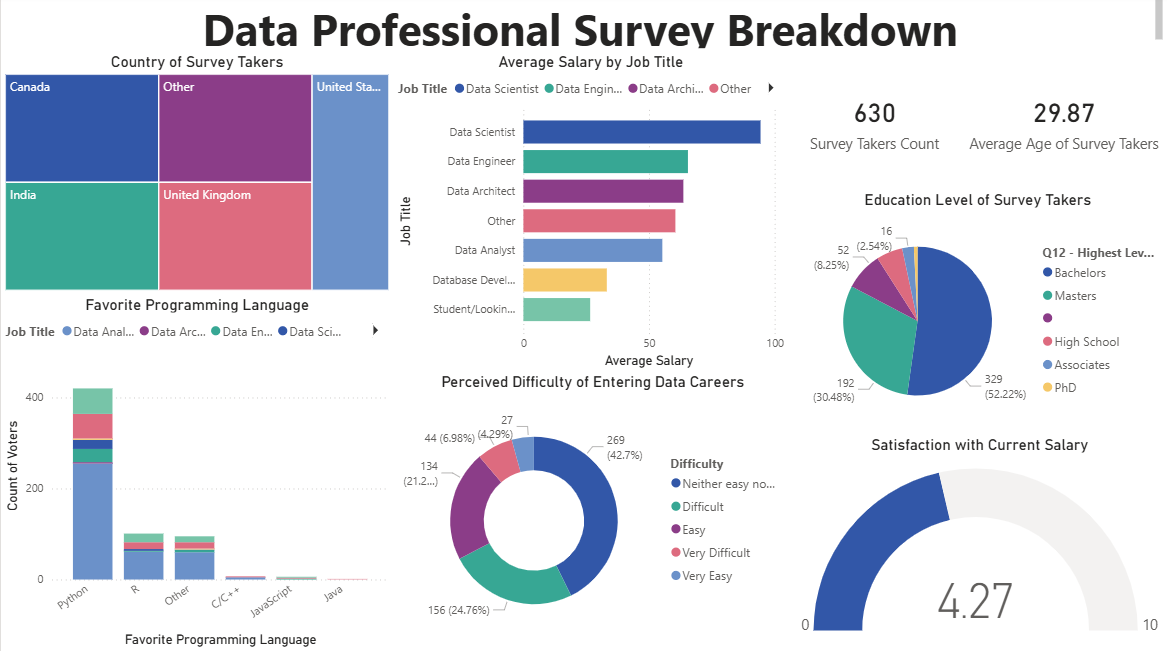

The dashboard page shown, as its layout file describes it:
{"tool":"powerbi","page":{"name":"Page 1","canvas":[1280,720],"ordinal":0},"visuals":[{"type":"textbox","box":[0,0,1280.3,63.1],"z":0},{"type":"card","fields":{"Values":["Count(Data Professional Survey.Unique ID)"]},"box":[864.5,63.1,189.4,150.9],"z":1},{"type":"card","fields":{"Values":["Avg(Data Professional Survey.Q10 - Current Age)"]},"box":[1053.9,63.1,226.4,150.9],"z":2},{"type":"barChart","title":"Average Salary by Job Title","fields":{"Category":["Data Professional Survey.Q1 - Which Title Best Fits your Current Role?.1"],"Y":["Avg(Data Professional Survey.Average Salary)"],"Series":["Data Professional Survey.Q1 - Which Title Best Fits your Current Role?.1"]},"box":[430.9,63.1,433.6,351.3],"z":3},{"type":"columnChart","title":"Favorite Programming Language","fields":{"Category":["Data Professional Survey.Q5 - Favorite Programming Language.1"],"Y":["CountNonNull(Data Professional Survey.Unique ID)"],"Series":["Data Professional Survey.Q1 - Which Title Best Fits your Current Role?.1"]},"box":[0,329.3,430.9,391.1],"z":4},{"type":"treemap","title":"Country of Survey Takers","fields":{"Group":["Data Professional Survey.Q11 - Which Country do you live in?.1"],"Values":["Count(Data Professional Survey.Q11 - Which Country do you live in?.1)"]},"box":[0,63.1,430.9,266.2],"z":5},{"type":"gauge","title":"Satisfaction with Current Salary","fields":{"Y":["Avg(Data Professional Survey.Q6 - How Happy are you in your Current Position with the following? (Salary))"],"MinValue":["Min(Data Professional Survey.Q6 - How Happy are you in your Current Position with the following? (Salary))"],"MaxValue":["Max(Data Professional Survey.Q6 - How Happy are you in your Current Position with the following? (Salary))"]},"box":[868.6,483,411.7,237.4],"z":7},{"type":"donutChart","title":"Perceived Difficulty of Entering Data Careers","fields":{"Category":["Data Professional Survey.Q7 - How difficult was it for you to break into Data?"],"Y":["CountNonNull(Data Professional Survey.Q7 - How difficult was it for you to break into Data?)"]},"box":[430.9,414.4,437.7,306],"z":8},{"type":"pieChart","title":"Education Level of Survey Takers","fields":{"Category":["Data Professional Survey.Q12 - Highest Level of Education"],"Y":["CountNonNull(Data Professional Survey.Q12 - Highest Level of Education)"]},"box":[864.5,214.1,415.8,269],"z":9}]}

Visuals, with their boxes in screenshot pixels (x1, y1, x2, y2), scaled from the page's 1280x720 canvas onto the 1167x651 screenshot:
textbox: {"x1": 0, "y1": 0, "x2": 1166, "y2": 57}
card - Count(Data Professional Survey.Unique ID): {"x1": 788, "y1": 57, "x2": 961, "y2": 193}
card - Avg(Data Professional Survey.Q10 - Current Age): {"x1": 961, "y1": 57, "x2": 1166, "y2": 193}
"Average Salary by Job Title" barChart: {"x1": 393, "y1": 57, "x2": 788, "y2": 375}
"Favorite Programming Language" columnChart: {"x1": 0, "y1": 298, "x2": 393, "y2": 650}
"Country of Survey Takers" treemap: {"x1": 0, "y1": 57, "x2": 393, "y2": 298}
"Satisfaction with Current Salary" gauge: {"x1": 792, "y1": 437, "x2": 1166, "y2": 650}
"Perceived Difficulty of Entering Data Careers" donutChart: {"x1": 393, "y1": 375, "x2": 792, "y2": 650}
"Education Level of Survey Takers" pieChart: {"x1": 788, "y1": 194, "x2": 1166, "y2": 437}
